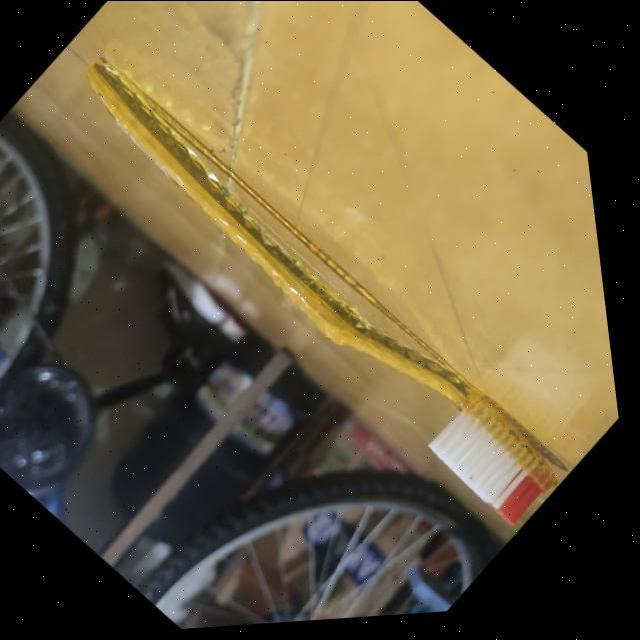toothbrush: (18, 9, 604, 594)
